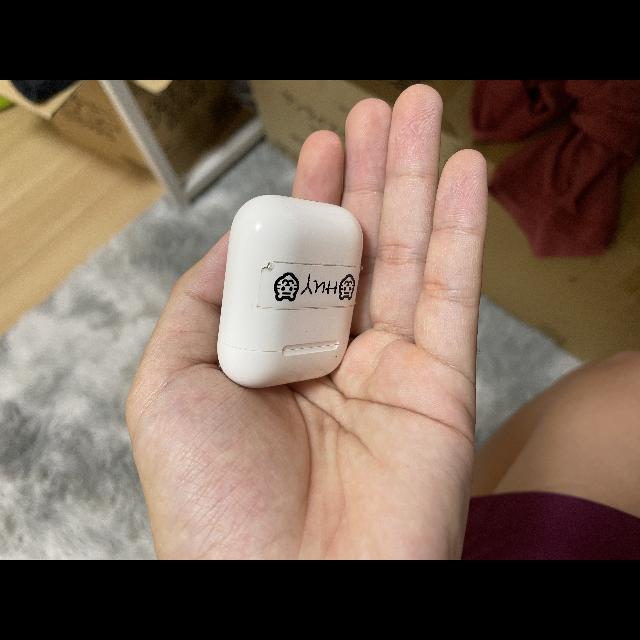airpod2: (220, 188, 366, 398)
